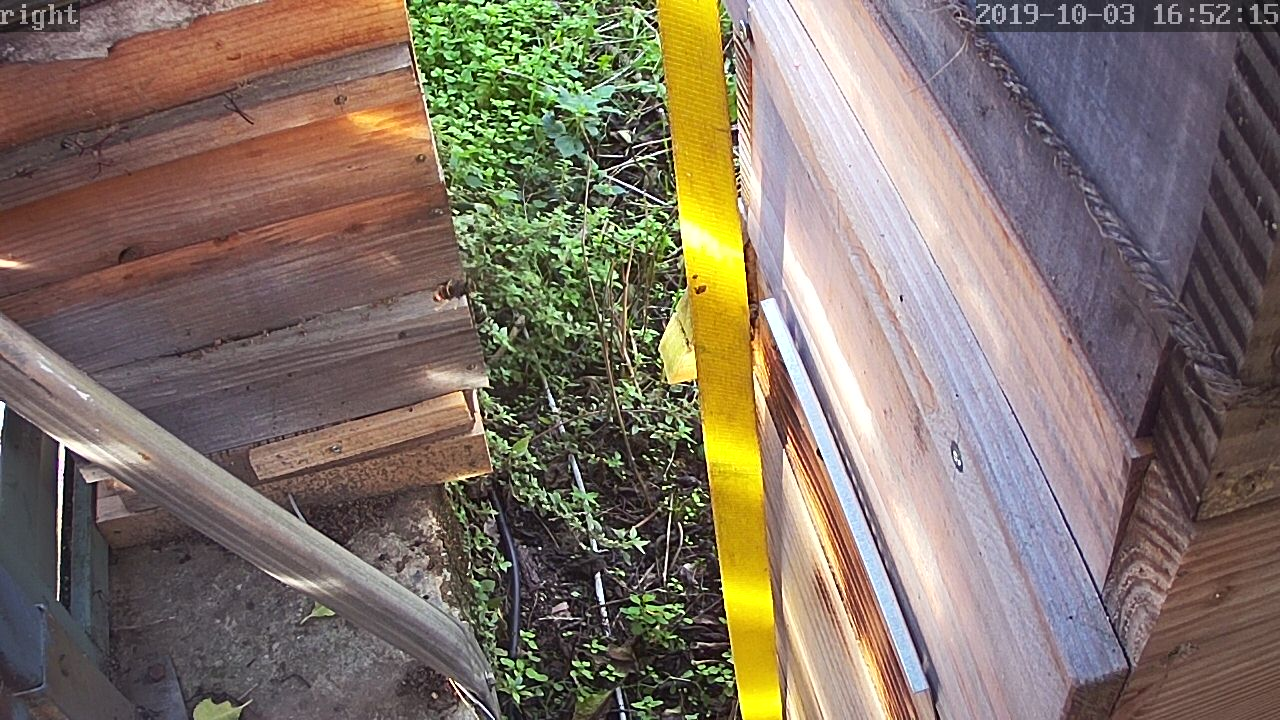hornet: (428, 274, 477, 310)
